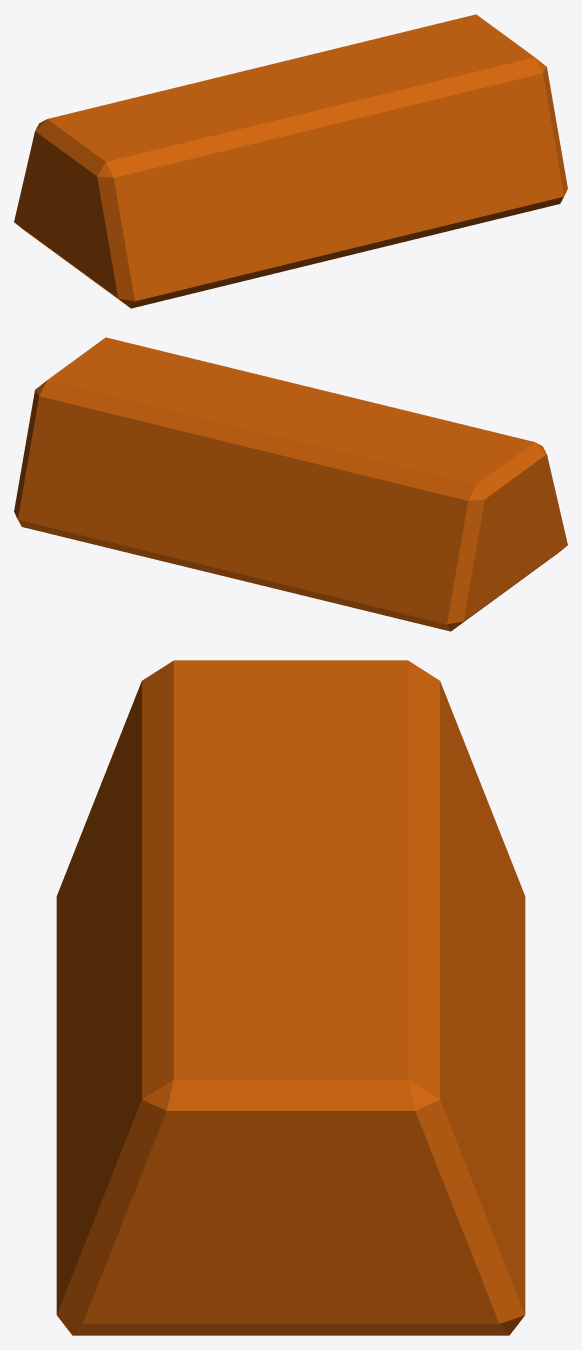
Rendered from ww_gold_bar.glb.
The picture shows the model from 3 angles, top to bottom: view 1: azimuth 30°, elevation 25°; view 2: azimuth 150°, elevation 25°; view 3: azimuth 270°, elevation 25°; orthographic projection. The views are drawn at different scales.
Parts seen in each view (by area): view 1: Gold_Bar; view 2: Gold_Bar; view 3: Gold_Bar.
Boxes of the visible parts, box(x1,y1,x2,y2) form: Gold_Bar: box(14, 14, 567, 308); Gold_Bar: box(14, 337, 567, 631); Gold_Bar: box(56, 660, 525, 1335).
Bounding box in the file's own units: 0.2636 × 0.0718 × 0.1189.
